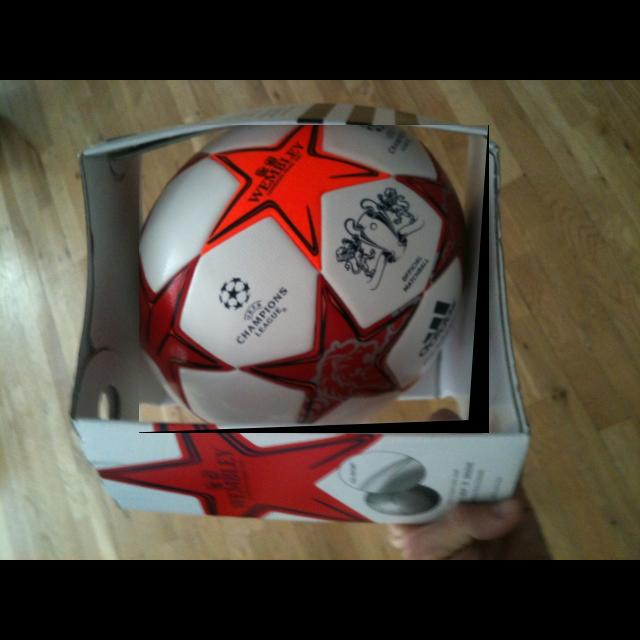Football: (139, 125, 489, 433)
